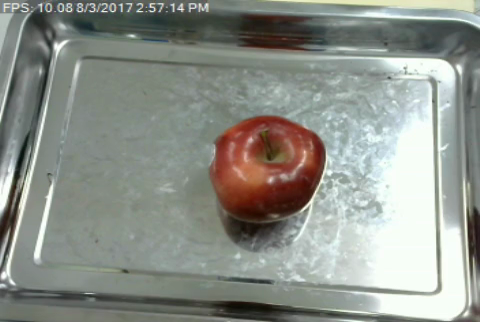Apple: (206, 109, 329, 229)
